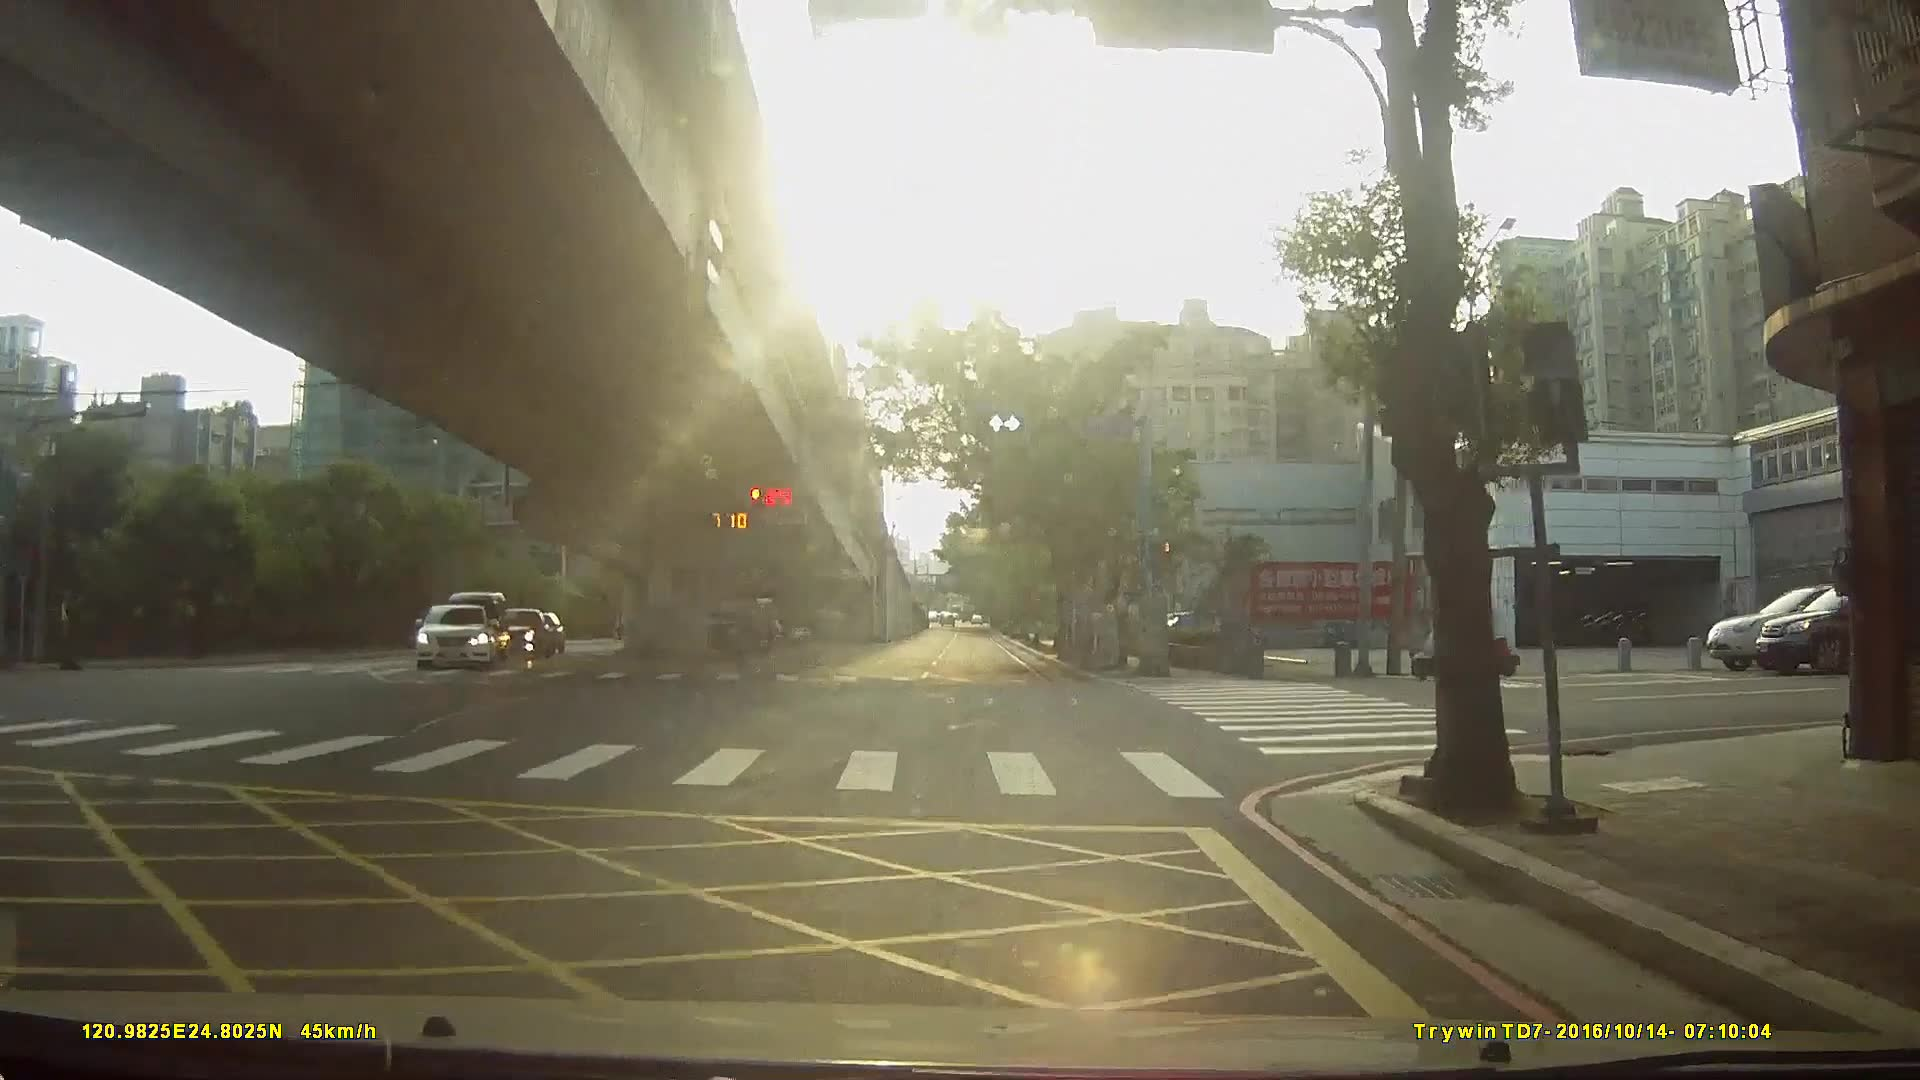rider: (1415, 599, 1494, 685)
vehicle: (1713, 587, 1907, 677), (1763, 578, 1920, 676), (405, 604, 489, 673), (676, 607, 775, 664), (482, 611, 555, 662)
